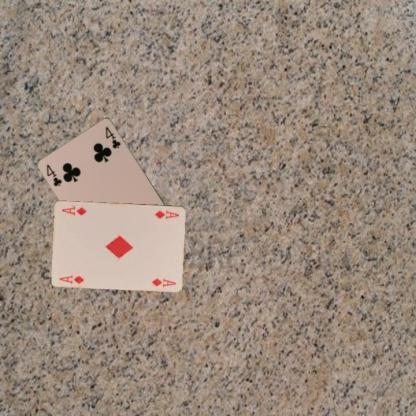4c: (43, 162, 63, 188)
Ad: (152, 206, 180, 221), (57, 272, 86, 285)
